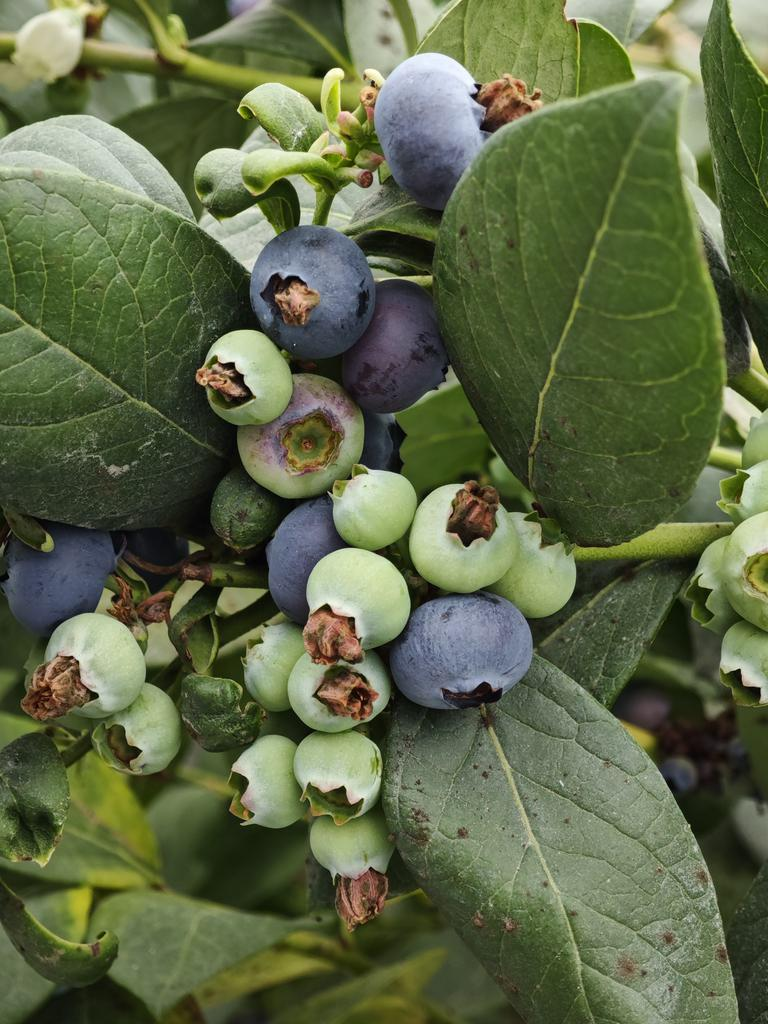RipeBlueBerry: (248, 218, 381, 358), (378, 47, 478, 206)
UnripeBlueBerry: (414, 475, 520, 596), (36, 610, 150, 717), (308, 544, 410, 657), (294, 725, 384, 825)
